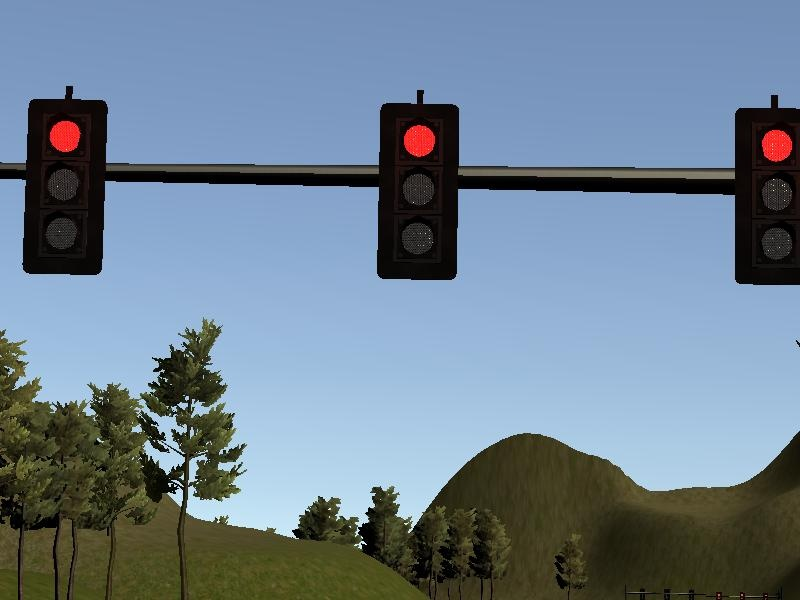red: (372, 96, 466, 291), (18, 91, 112, 285), (731, 99, 800, 291)
